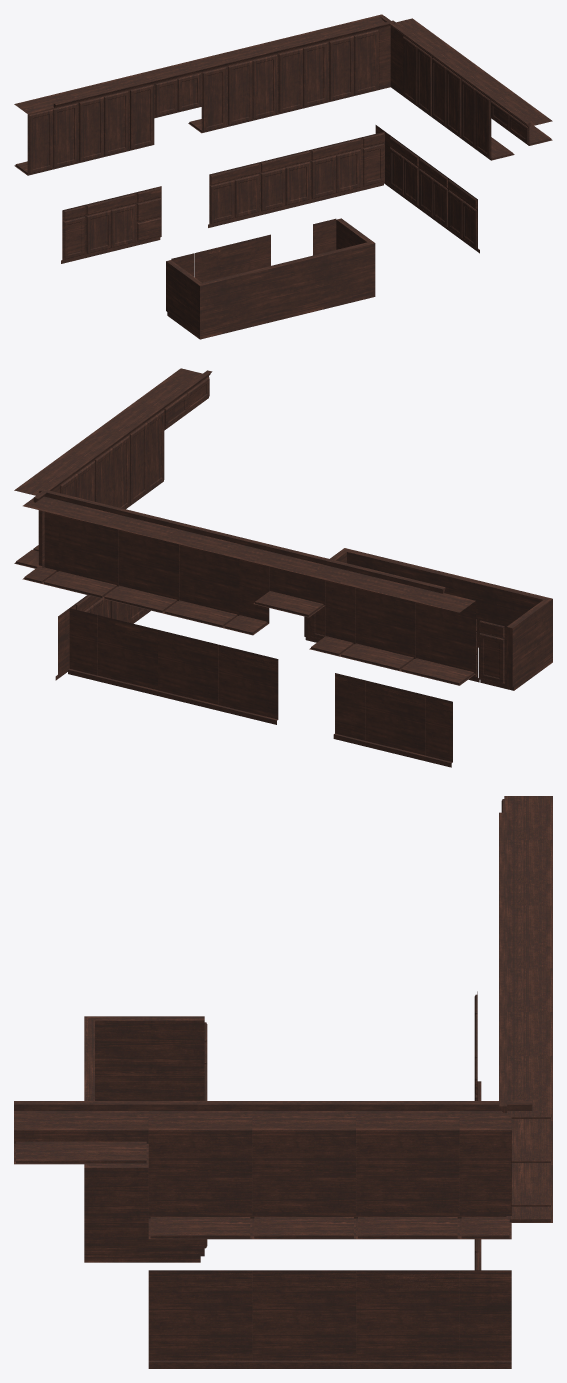
Rendered from 1989_kitchen_cabinets_espresso.gltf.
3 renders of one model, top to bottom at view 1: azimuth 30°, elevation 25°; view 2: azimuth 150°, elevation 25°; view 3: azimuth 270°, elevation 25°, orthographic. The views are drawn at different scales.
Visible parts, largest first — view 1: Line23387; view 2: Line23387; view 3: Line23387.
Boxes of the visible parts, x1=… form: Line23387: x1=14, y1=14, x2=552, y2=339; Line23387: x1=14, y1=368, x2=552, y2=767; Line23387: x1=14, y1=796, x2=552, y2=1368.
Size of the model in its own units: 7.63 by 2.93 by 5.2.
1 material, 1 textured.
